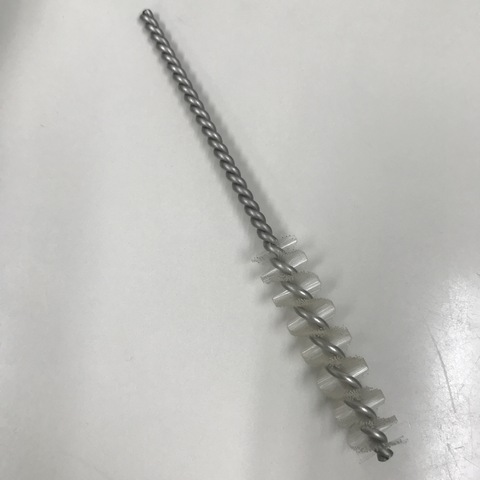Twist Brush-B: (137, 3, 412, 464)
